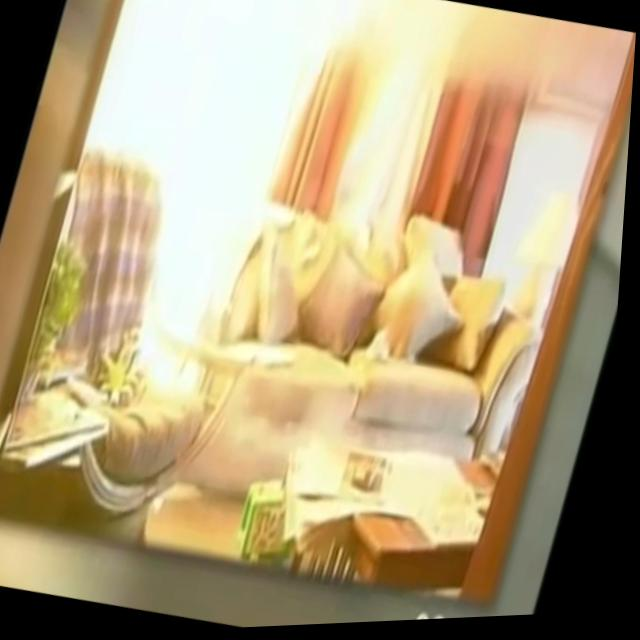fire: (116, 34, 303, 412)
